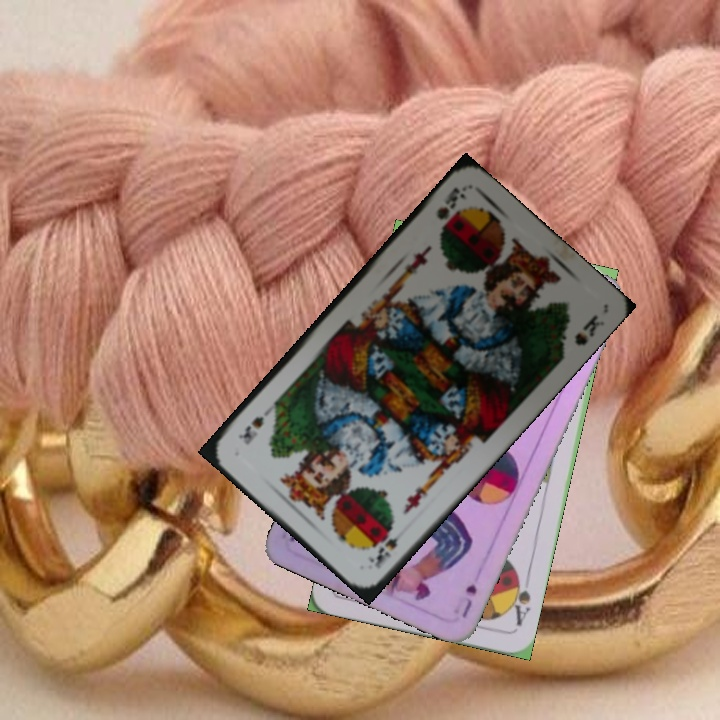SA: (504, 570, 533, 629)
SK: (363, 523, 411, 571), (432, 183, 470, 223)
SU: (455, 580, 480, 620)
